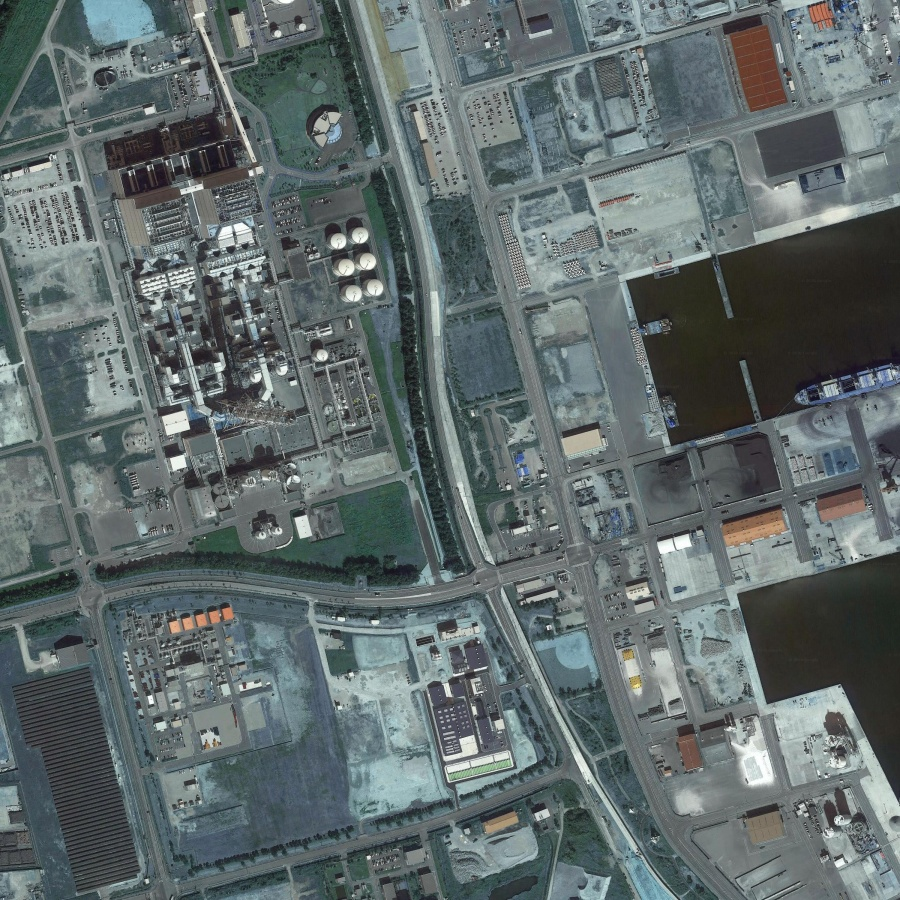PowerPlant: (115, 153, 395, 543)
